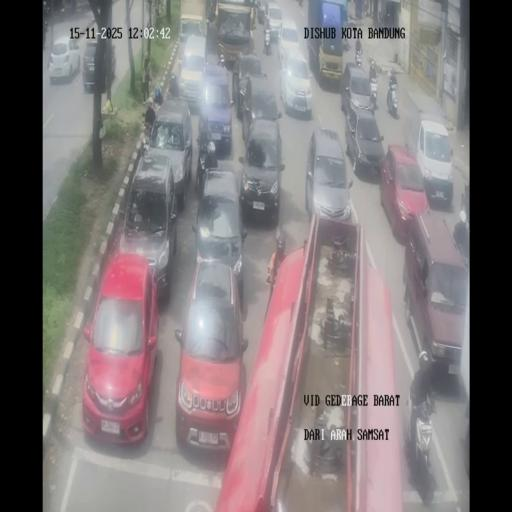car: (82, 252, 160, 446), (404, 212, 468, 375), (192, 168, 246, 298), (144, 99, 194, 204), (304, 128, 352, 227), (406, 109, 454, 205), (198, 66, 234, 152), (345, 106, 385, 178), (238, 74, 278, 143), (280, 52, 314, 116), (178, 36, 208, 108), (82, 38, 116, 93), (340, 62, 372, 116), (48, 35, 81, 84), (278, 17, 300, 65), (264, 3, 282, 41), (256, 0, 268, 24)
motorcycle: (405, 382, 434, 473), (195, 133, 218, 197), (326, 234, 356, 275), (460, 181, 470, 244), (386, 78, 399, 118), (367, 76, 378, 112), (142, 115, 154, 142), (168, 72, 180, 98), (263, 32, 272, 55), (249, 27, 255, 52), (218, 52, 226, 70), (42, 21, 47, 49), (355, 48, 362, 67), (42, 0, 50, 16), (362, 0, 369, 18), (378, 10, 383, 23)
truck: (213, 209, 400, 510), (305, 0, 346, 84), (214, 0, 254, 68)
